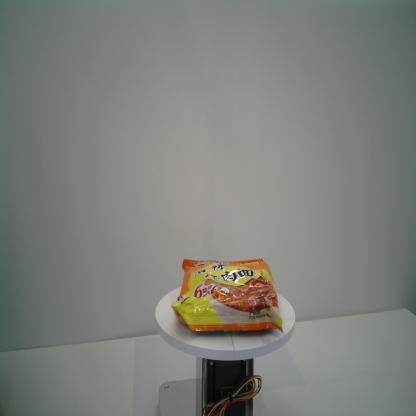Instant Noodles: (170, 257, 285, 337)
